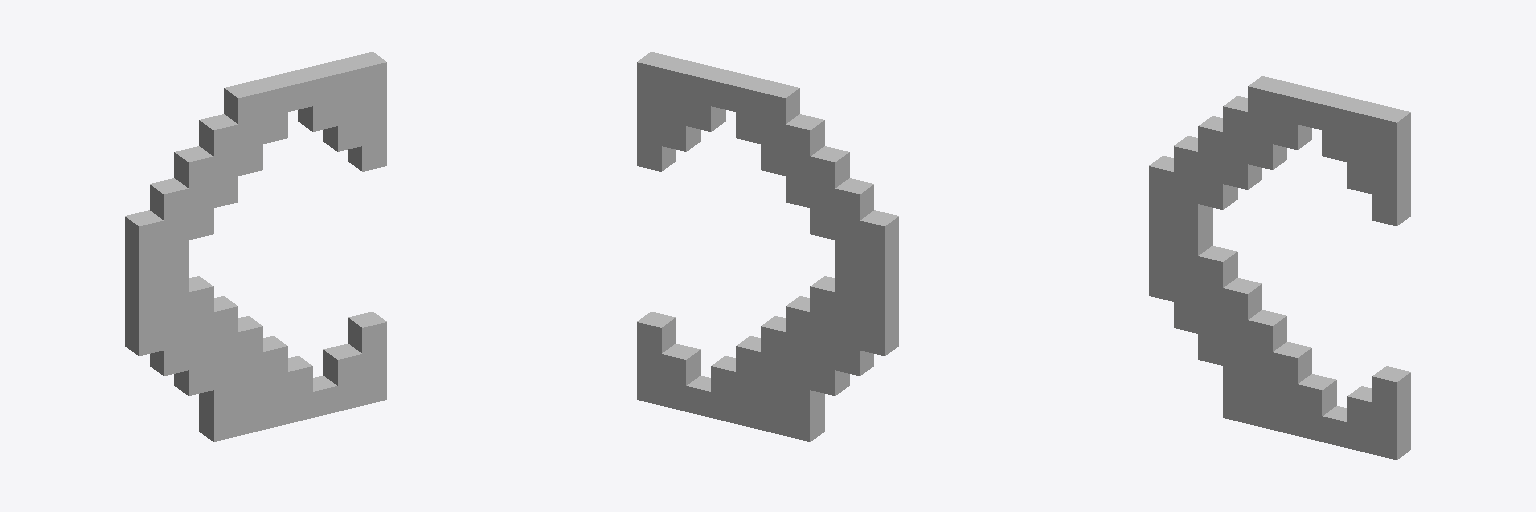
Rendered from coin.obj.
3 views of the same model, side by side, from view 1: azimuth 30°, elevation 25°; view 2: azimuth 150°, elevation 25°; view 3: azimuth 330°, elevation 25° (orthographic).
Parts seen in each view (by area): view 1: object 1; view 2: object 1; view 3: object 1.
Part boxes in pixels (x1,y1,x2,y2): object 1: (125, 52, 386, 441); object 1: (637, 52, 898, 441); object 1: (1149, 76, 1410, 459).
Bounding box in the file's own units: 1 × 1.3 × 0.1.